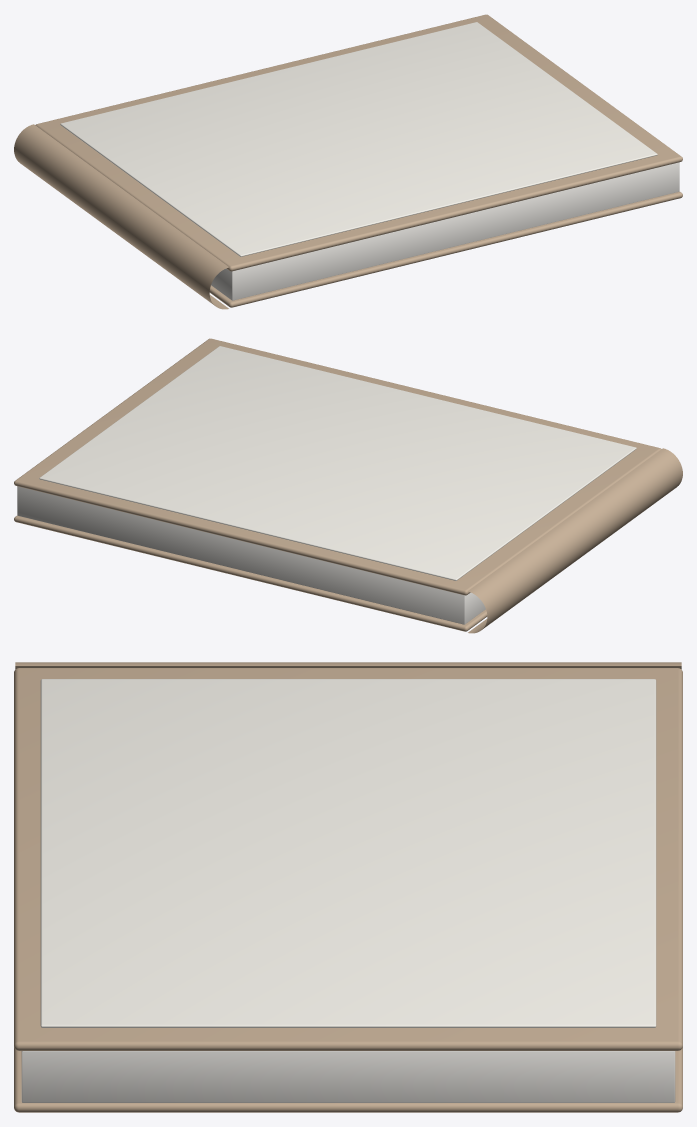
The model's file is laser--landscape.glb.
3 renders of one model, top to bottom at view 1: azimuth 30°, elevation 25°; view 2: azimuth 150°, elevation 25°; view 3: azimuth 270°, elevation 25°, orthographic. The views are drawn at different scales.
Visible parts, largest first — view 1: Band, CoverFront, Pages, Spine, CoverBack; view 2: Band, CoverFront, Pages, Spine, CoverBack; view 3: Band, CoverFront, Pages, CoverBack, Spine.
Boxes of the visible parts, x1=… form: Band: x1=60, y1=22, x2=657, y2=256; CoverFront: x1=35, y1=14, x2=682, y2=271; Pages: x1=211, y1=162, x2=679, y2=300; Spine: x1=14, y1=124, x2=228, y2=309; CoverBack: x1=209, y1=191, x2=682, y2=307; Band: x1=39, y1=346, x2=636, y2=580; CoverFront: x1=14, y1=338, x2=661, y2=595; Pages: x1=17, y1=486, x2=485, y2=624; Spine: x1=468, y1=448, x2=682, y2=633; CoverBack: x1=14, y1=515, x2=487, y2=631; Band: x1=40, y1=679, x2=656, y2=1027; CoverFront: x1=14, y1=668, x2=682, y2=1050; Pages: x1=21, y1=1051, x2=675, y2=1102; CoverBack: x1=14, y1=1047, x2=682, y2=1112; Spine: x1=15, y1=662, x2=681, y2=669.
Bounding box in the file's own units: 0.4179 × 0.0365 × 0.3.
